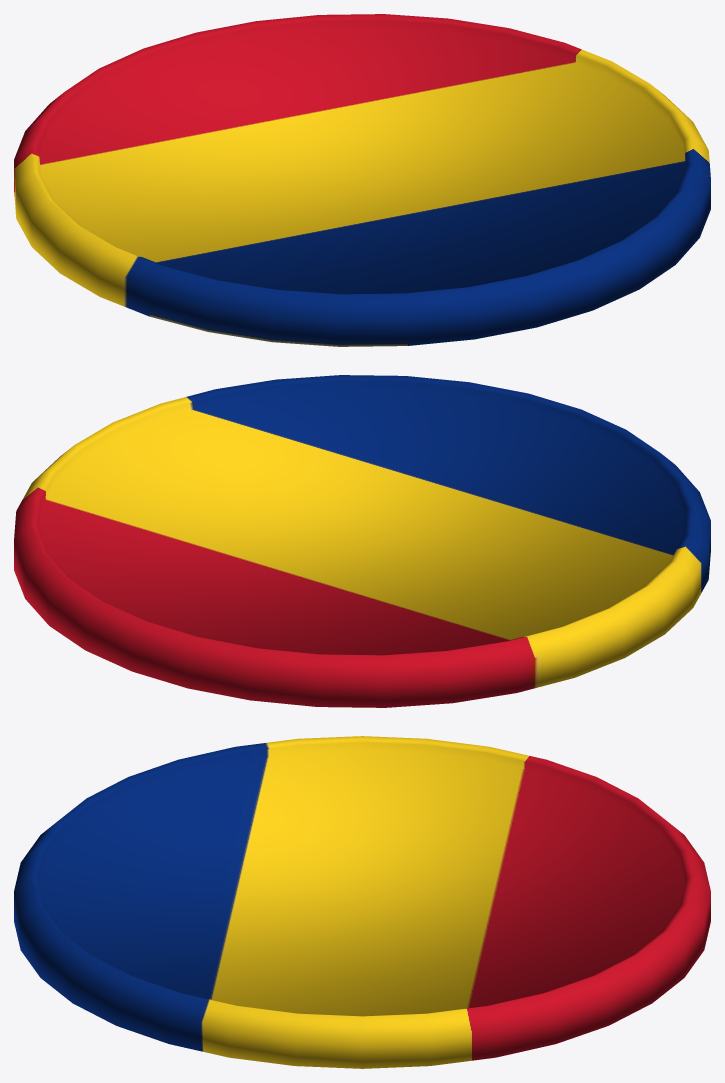
Rendered from RomanianFlagRound.fbx.
The picture shows the model from 3 angles, top to bottom: view 1: azimuth 30°, elevation 25°; view 2: azimuth 150°, elevation 25°; view 3: azimuth 270°, elevation 25°; orthographic projection.
Parts seen in each view (by area): view 1: Circle; view 2: Circle; view 3: Circle.
Boxes of the visible parts, left/top/right/bottom form: Circle: left=14, top=14, right=710, bottom=346; Circle: left=14, top=375, right=710, bottom=707; Circle: left=14, top=736, right=710, bottom=1068.
Size of the model in its own units: 200 by 14.34 by 200.
1 material, 1 textured.
